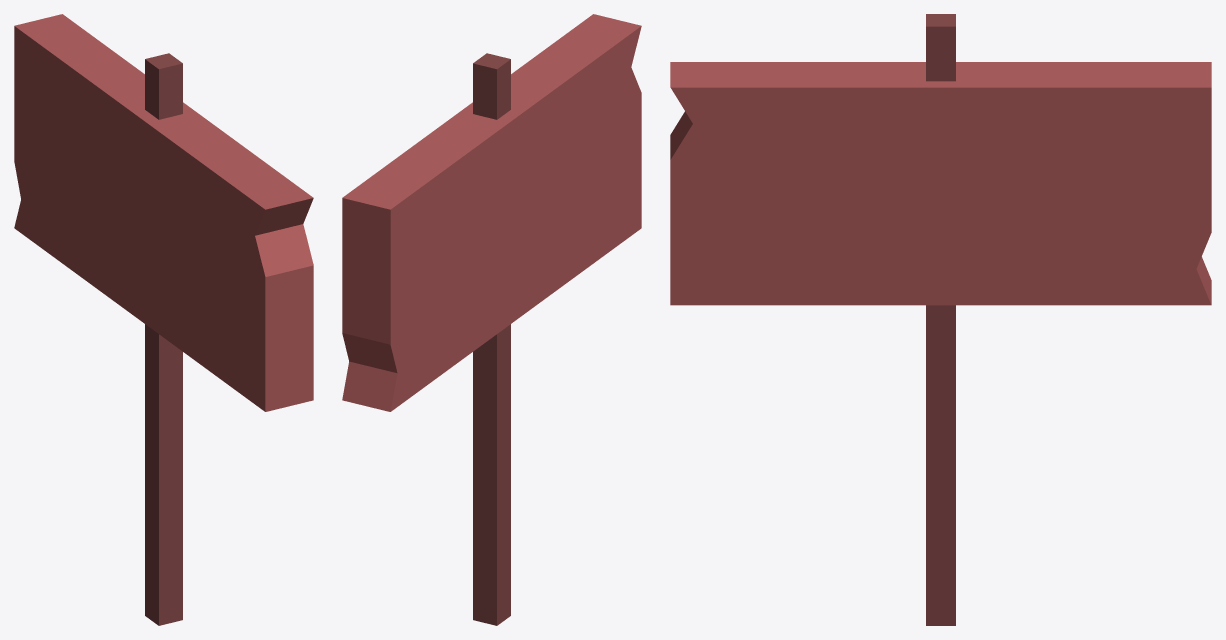
File: panneau.fbx
3 views of the same model, side by side, from view 1: azimuth 30°, elevation 25°; view 2: azimuth 150°, elevation 25°; view 3: azimuth 270°, elevation 25° (orthographic). The views are drawn at different scales.
Visible parts, largest first — view 1: Sign; view 2: Sign; view 3: Sign.
Boxes of the visible parts, bbox=[...] form: Sign: bbox=[14, 14, 313, 625]; Sign: bbox=[342, 14, 641, 625]; Sign: bbox=[670, 14, 1211, 625].
Size of the model in its own units: 12.5 by 138 by 112.
Materials: 1 (1 with a texture image).
